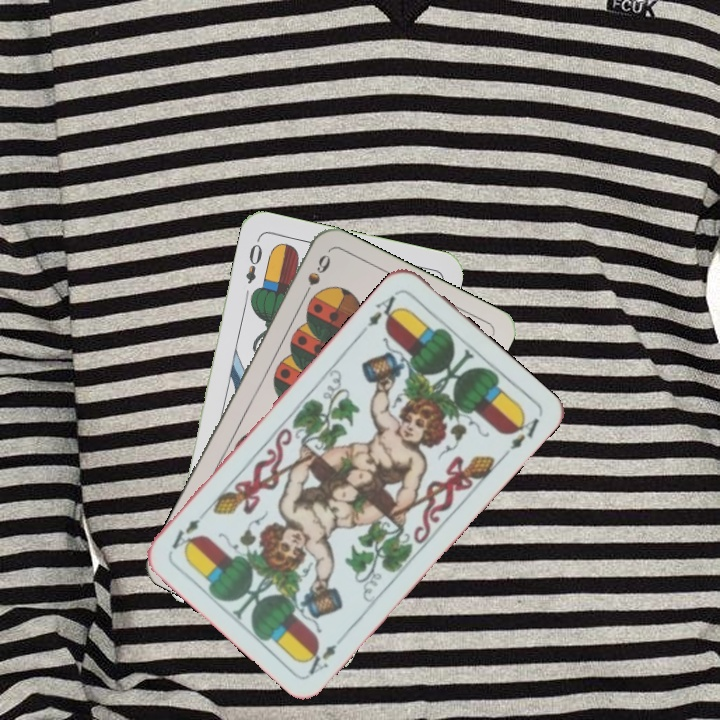EA: (359, 287, 404, 336), (300, 640, 340, 678)
EO: (241, 234, 265, 286)
S9: (297, 250, 334, 304)
